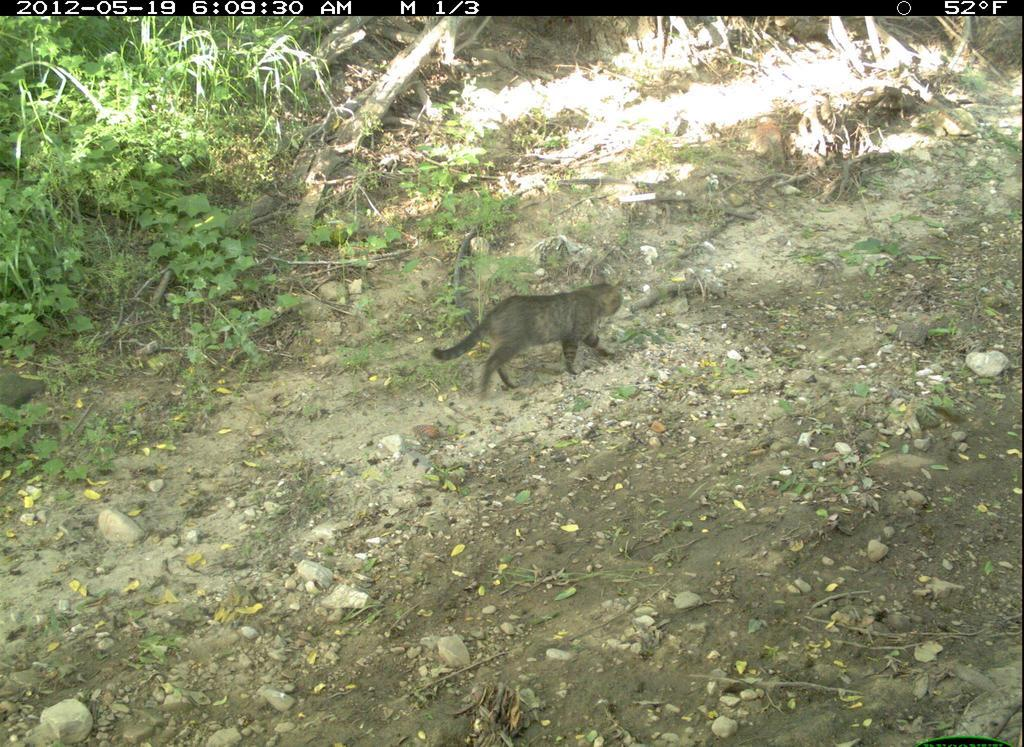cat: (432, 271, 639, 409)
